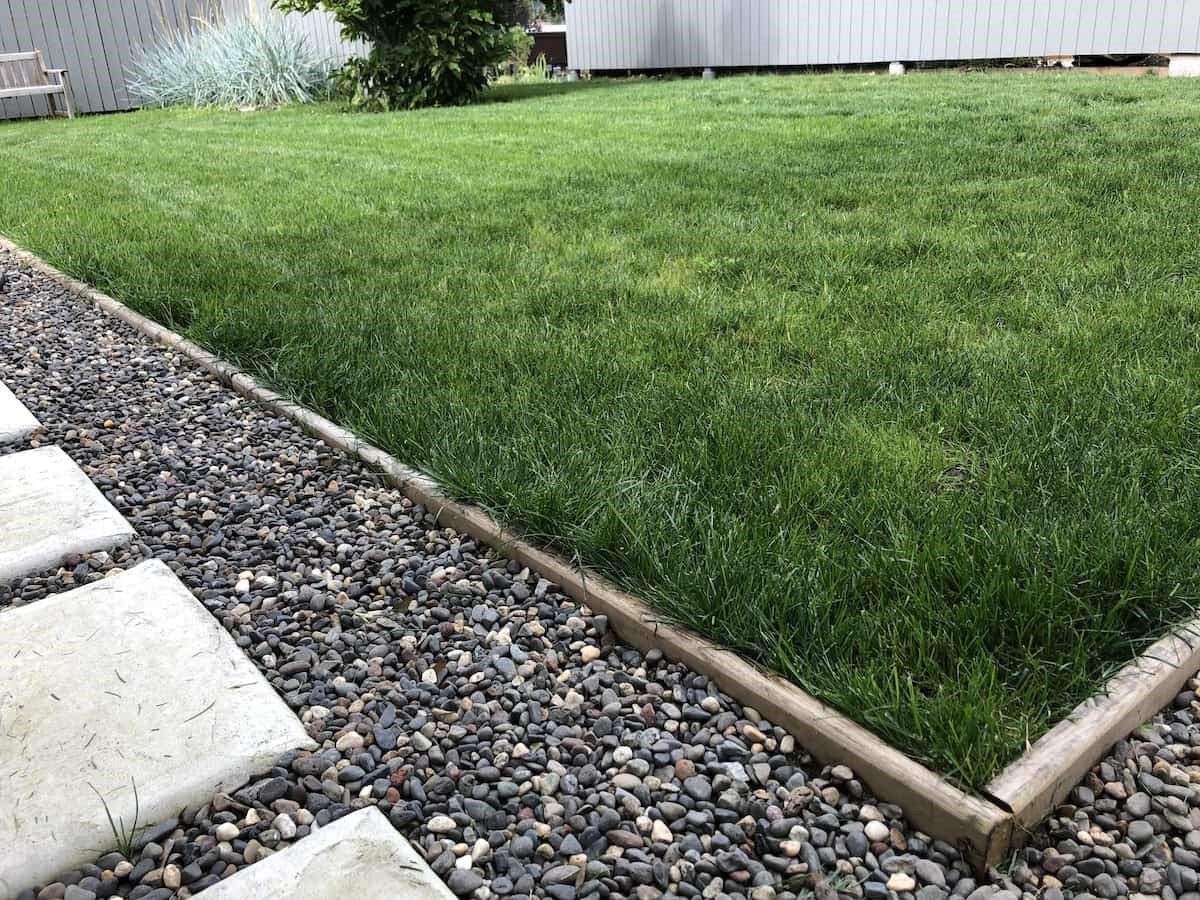grass: (0, 85, 1191, 309), (485, 492, 1199, 766), (184, 319, 1189, 486)
rock: (413, 650, 963, 895), (268, 495, 605, 816), (4, 304, 348, 604), (1009, 693, 1191, 889)
